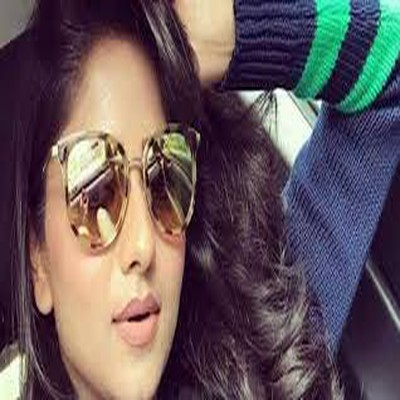eywear: (42, 125, 225, 254)
